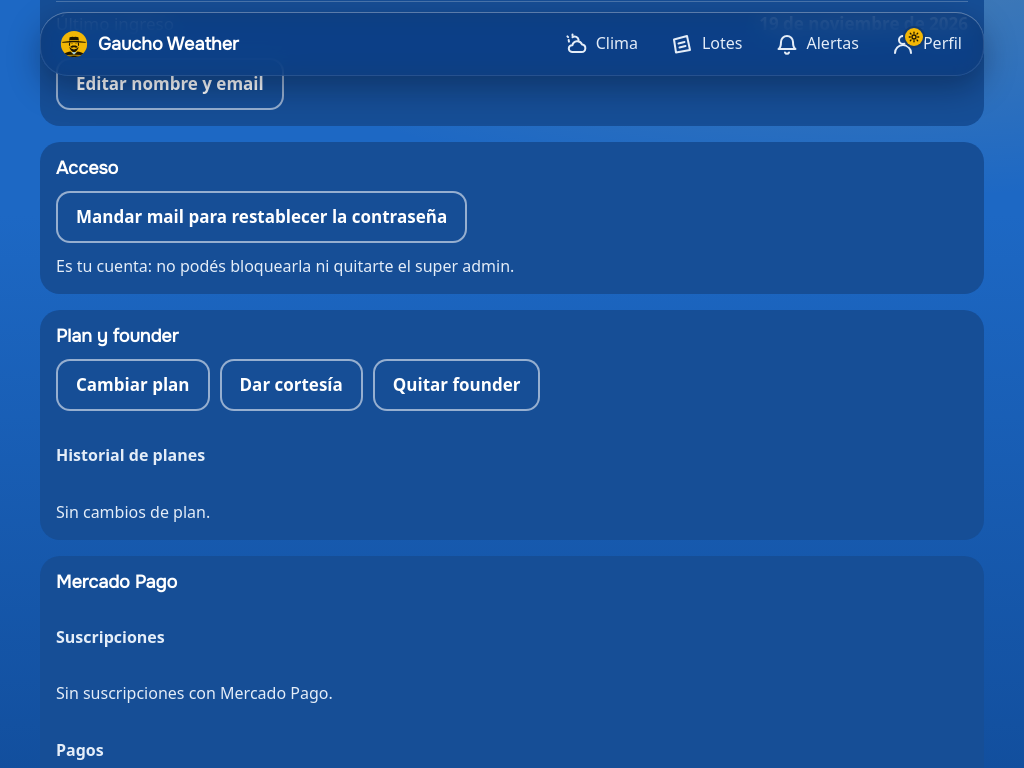
Test: Give a cortesía (S5) › offers a founder only Empresa
(page scrolled)
Click the button "Dar cortesía" at (291, 385), box [220,359,363,411]
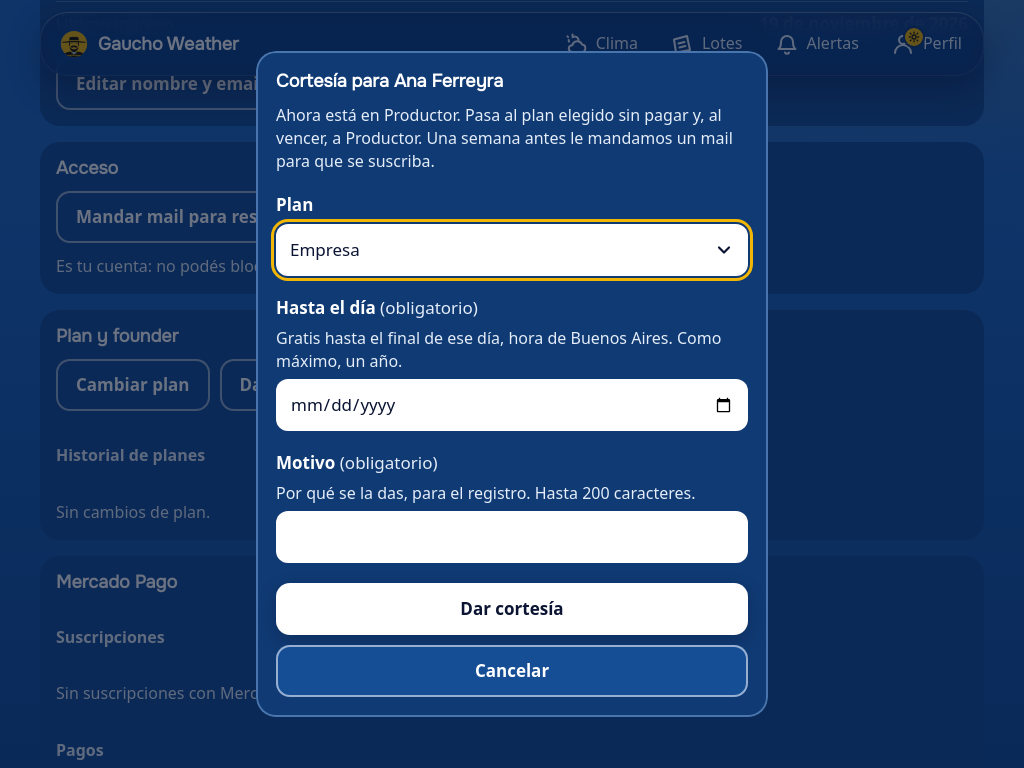
Expected: the dialog "Cortesía para " shows "al vencer, a Productor", [276,104,733,172]
